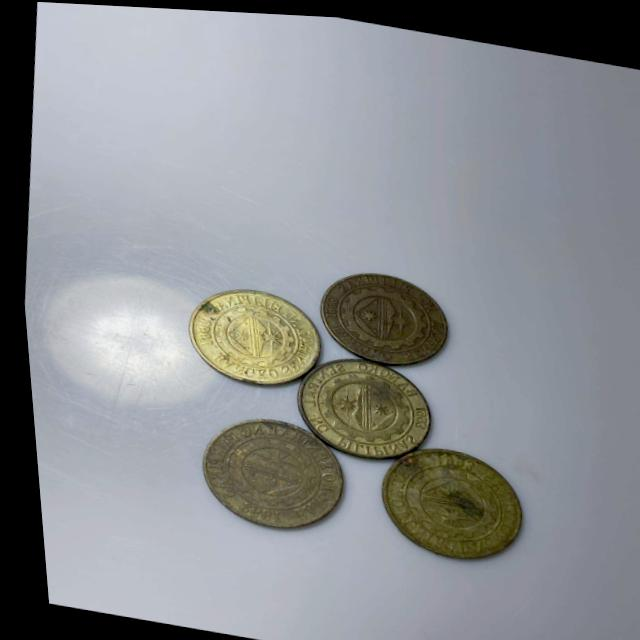25Cent_Old_Back: (370, 438, 523, 559), (188, 412, 342, 532), (282, 349, 428, 457), (179, 280, 316, 388), (312, 261, 451, 363)
